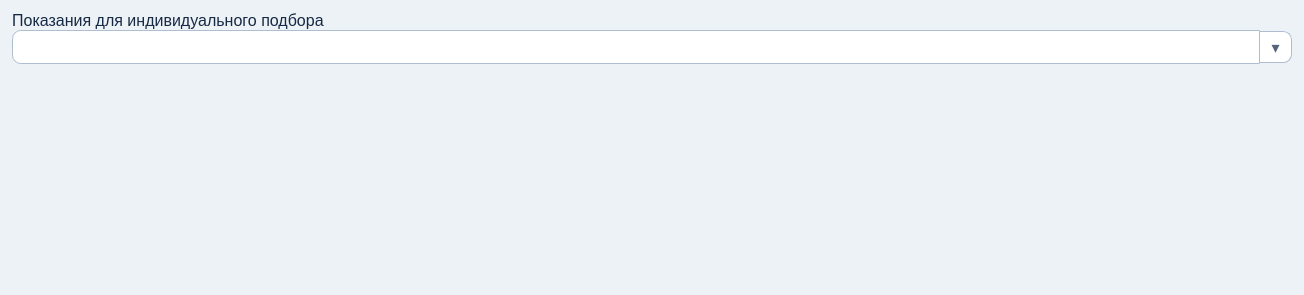
shows editable saved reasons above presets (coded: false)
Later steps or results of the test are not shown.
Click the button "▾". click: (1276,47)
box: top-left (1260, 31), bottom-right (1292, 63)
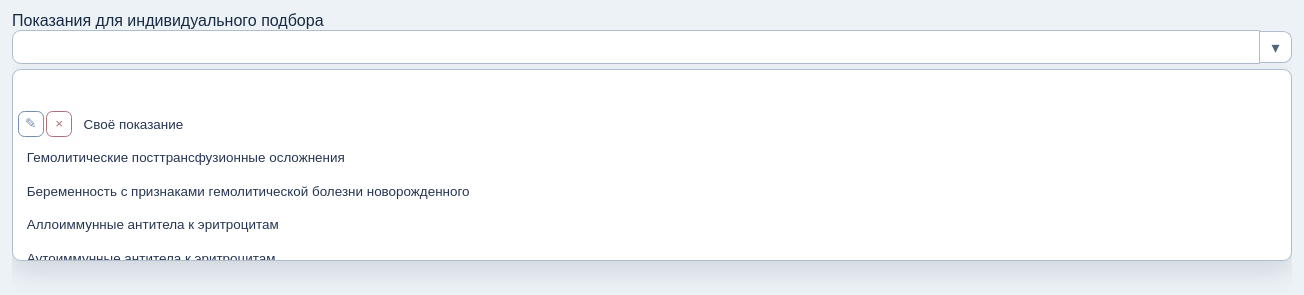
expect the button named "Изменить значение" is shown: met, box top-left (18, 111), bottom-right (44, 137)
